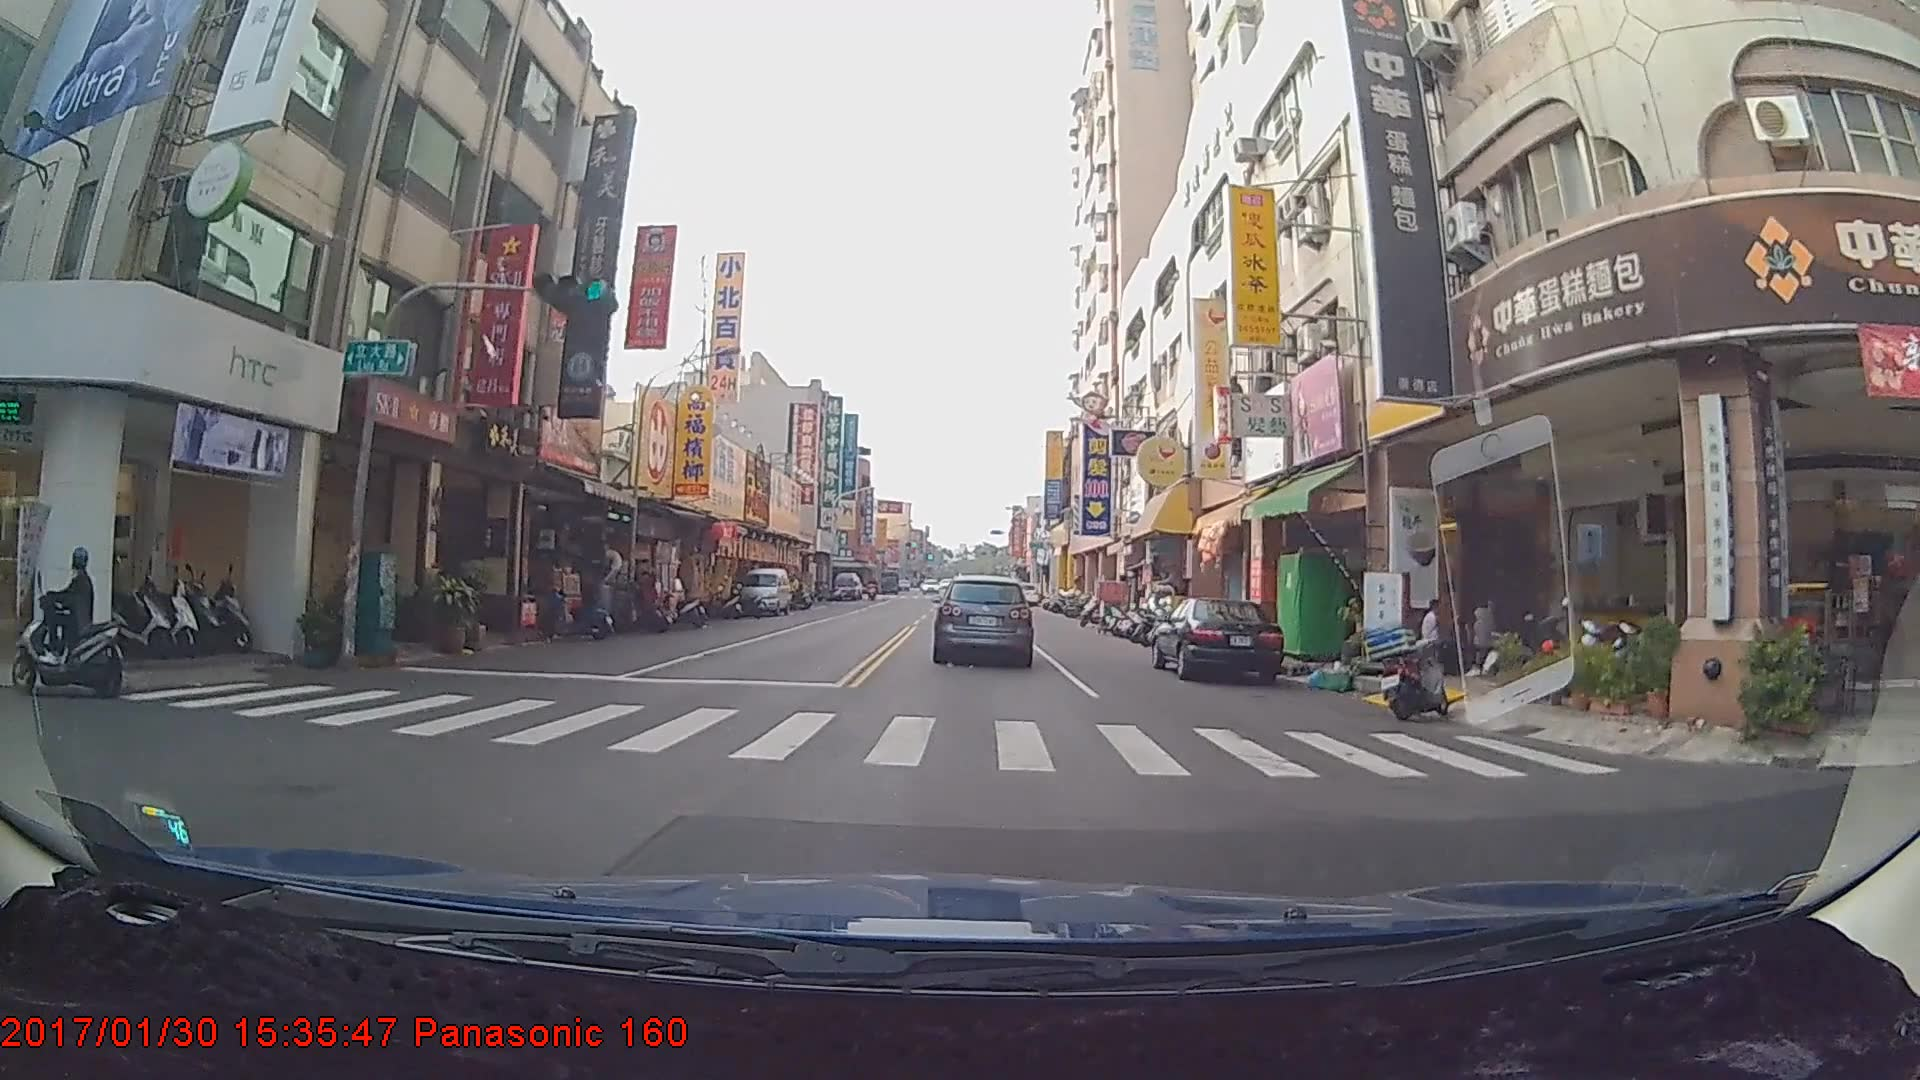pedestrian: (1416, 594, 1450, 677), (1462, 595, 1495, 679)
rider: (7, 549, 128, 695)
vehicle: (1149, 596, 1285, 683), (934, 575, 1032, 665), (734, 566, 788, 617), (832, 569, 861, 597)
